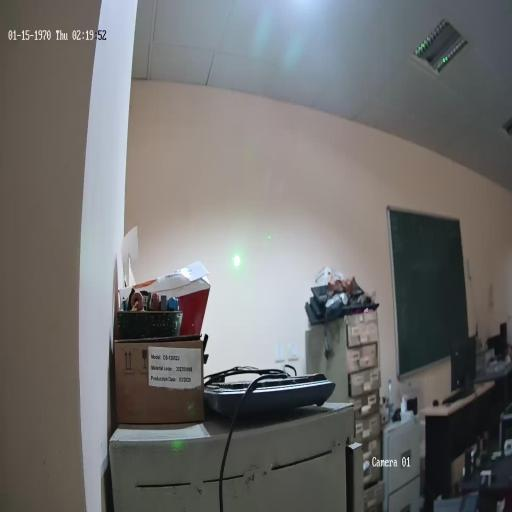laser: (232, 251, 242, 272)
